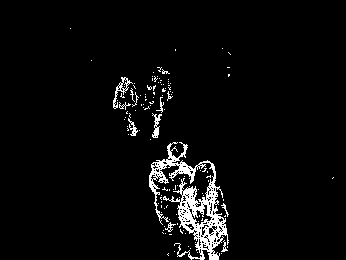person: (176, 159, 233, 260), (149, 139, 194, 260), (141, 64, 174, 138), (112, 74, 139, 137)
